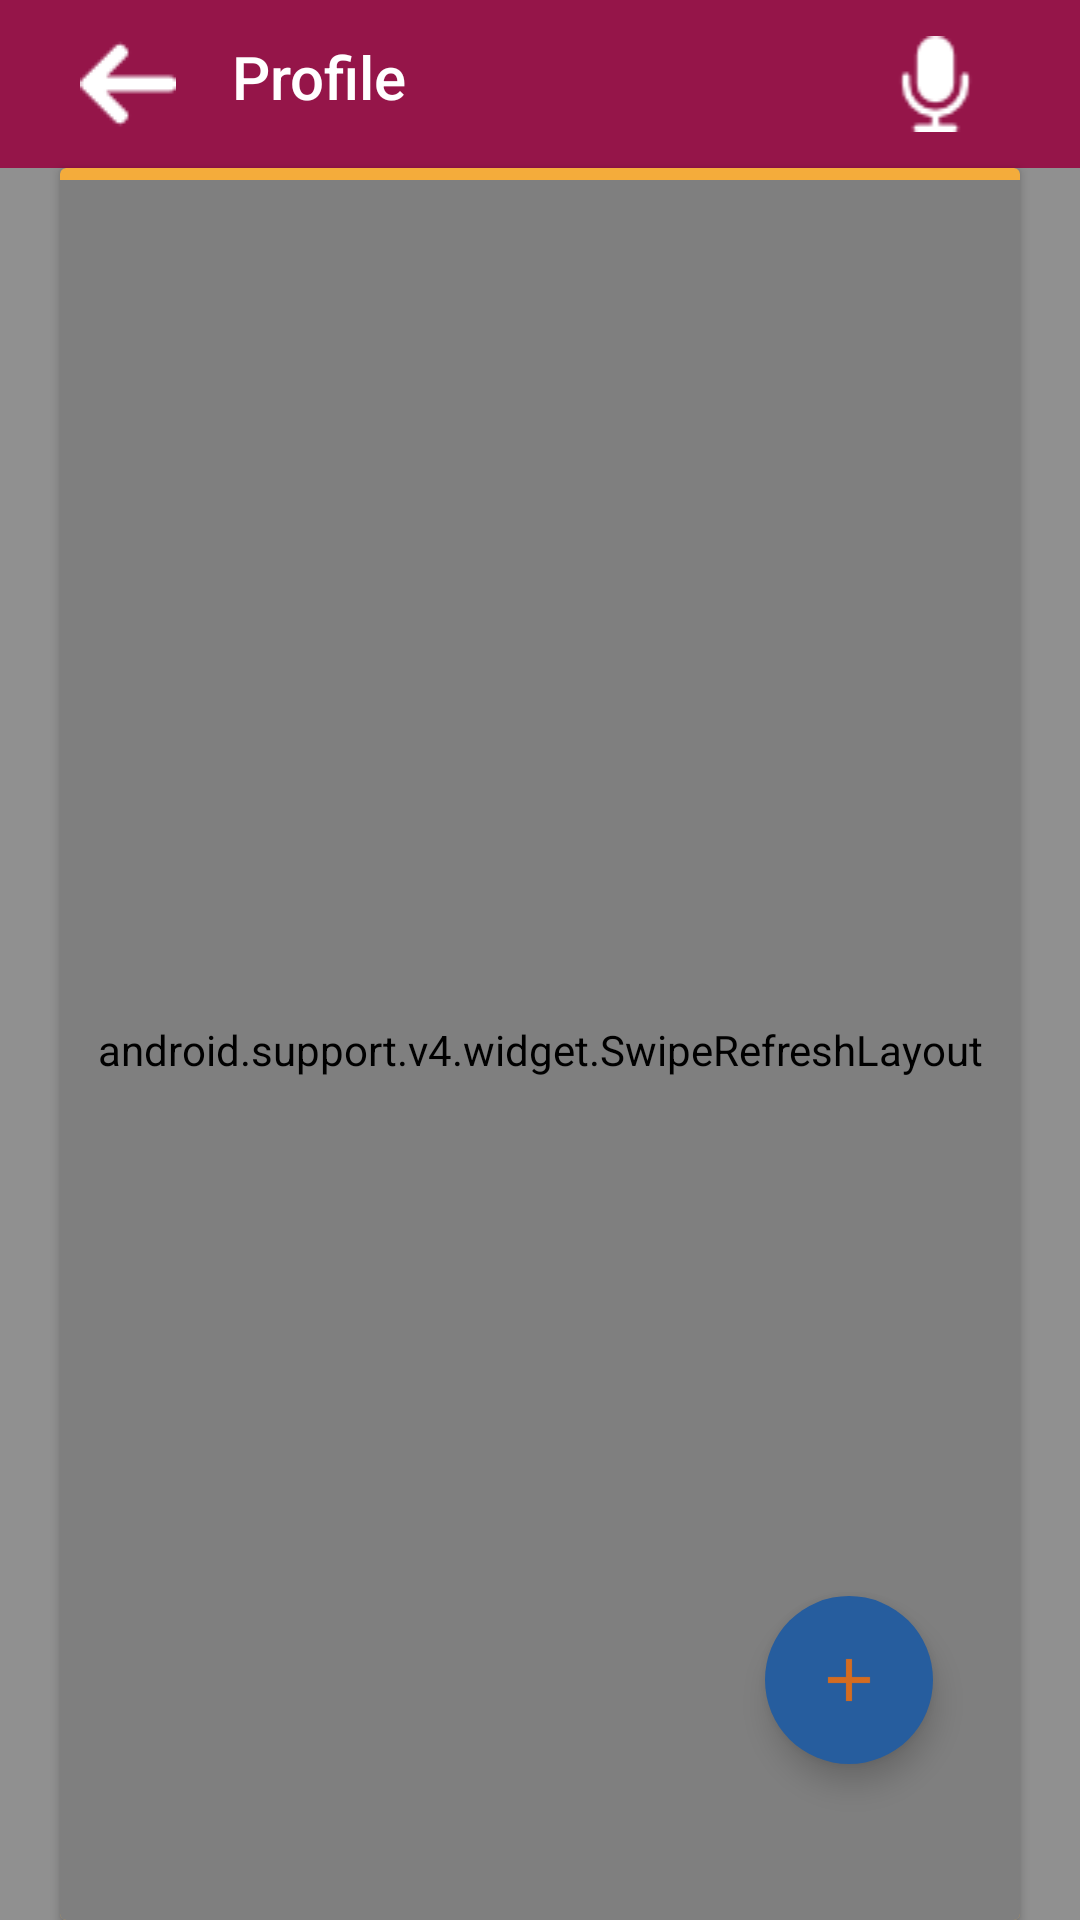

Named icons in this screenshot (1080w x 1920h) and their centers, point (x, y):
left: point (128, 84)
New Notification: point (849, 1680)
